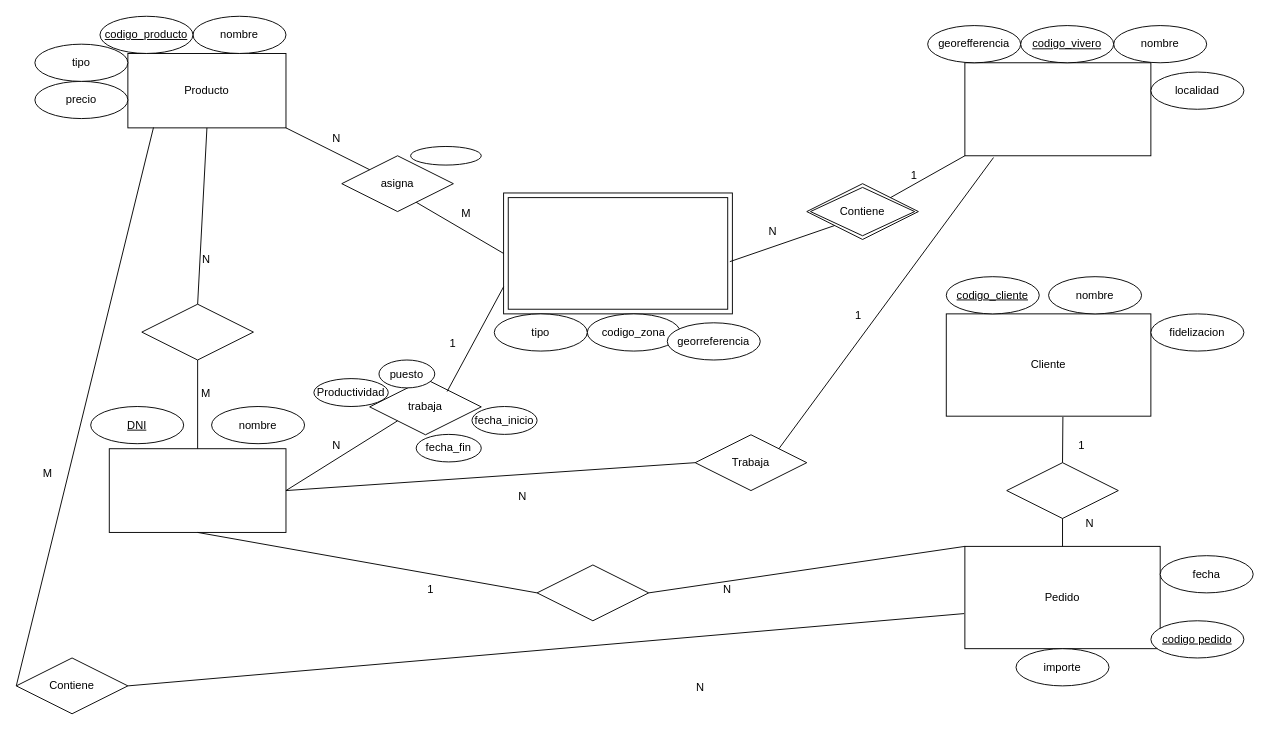
Some shapes in this 1269 by 730 pixel diagram are drawn without their labels. The shapes that lost their labels are listed below. From the top down, each one's centre as x and y in pixels, then its label:
At pixel 1057 109: "Vivero".
At pixel 445 155: "Cantidad".
At pixel 617 253: "Zona".
At pixel 197 331: "pertenece".
At pixel 197 490: "Empleado".
At pixel 1062 490: "realiza".
At pixel 592 592: "gestiona".
